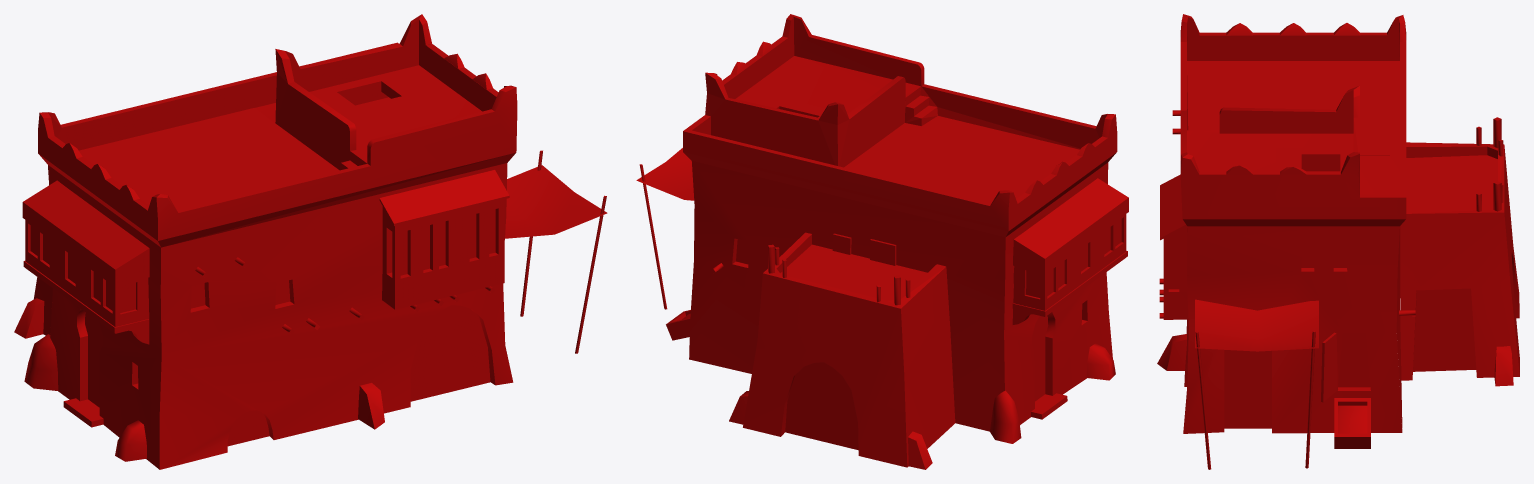
The model's file is harbor_01_orient_1_lod0.glb.
3 renders of one model, left to right at view 1: azimuth 30°, elevation 25°; view 2: azimuth 150°, elevation 25°; view 3: azimuth 270°, elevation 25°, orthographic. The views are drawn at different scales.
Visible parts, largest first — view 1: MODEL_harbor_01_colony_lod0; view 2: MODEL_harbor_01_colony_lod0; view 3: MODEL_harbor_01_colony_lod0.
Part boxes in pixels (x1,y1,x2,y2): MODEL_harbor_01_colony_lod0: (14, 14, 607, 469); MODEL_harbor_01_colony_lod0: (636, 14, 1128, 469); MODEL_harbor_01_colony_lod0: (1157, 14, 1519, 469).
Size of the model in its own units: 2.79 by 1.65 by 1.92.
